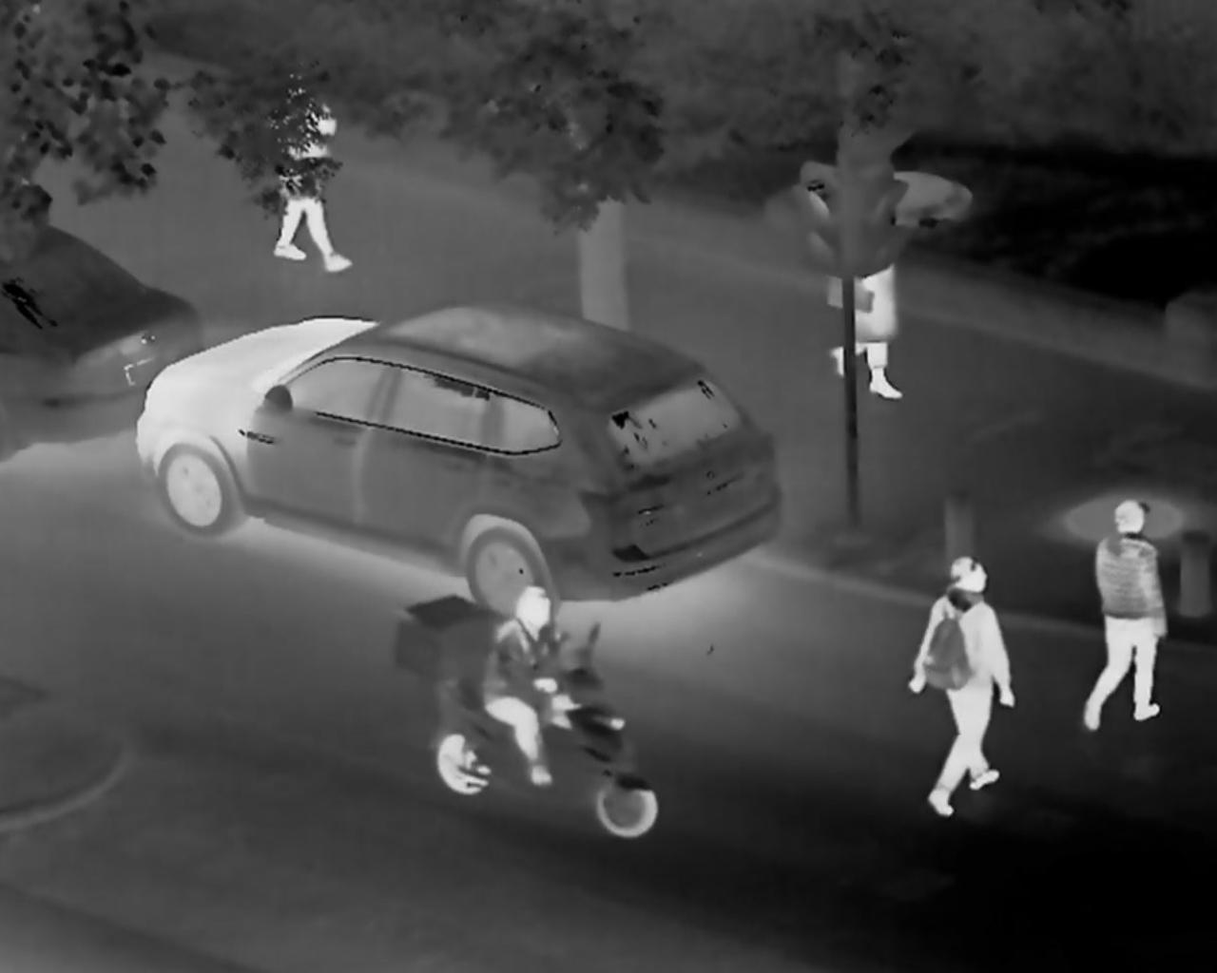person: (905, 540, 1043, 811), (1082, 497, 1194, 740), (475, 579, 589, 797), (821, 210, 939, 406), (272, 63, 349, 280)
